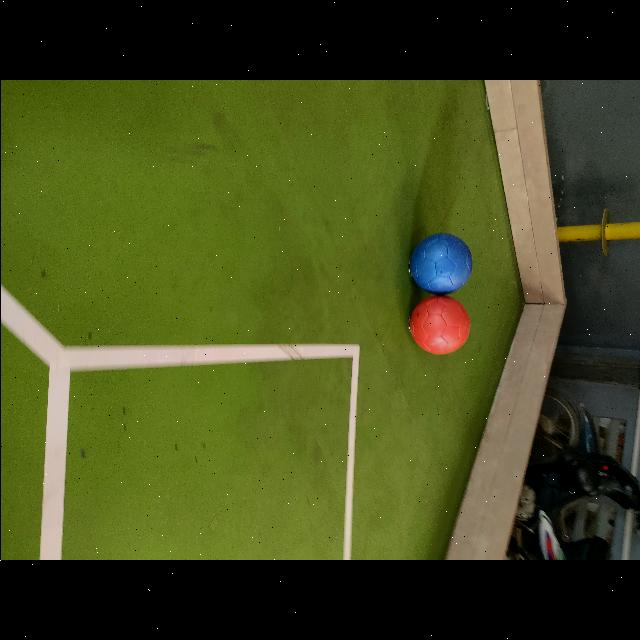B: (409, 233, 471, 295)
R: (409, 295, 470, 355)
